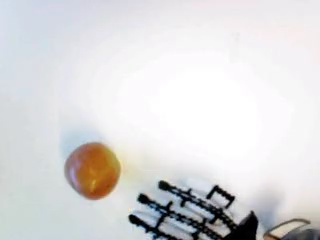apple: (62, 141, 120, 200)
hand: (130, 180, 267, 238)
